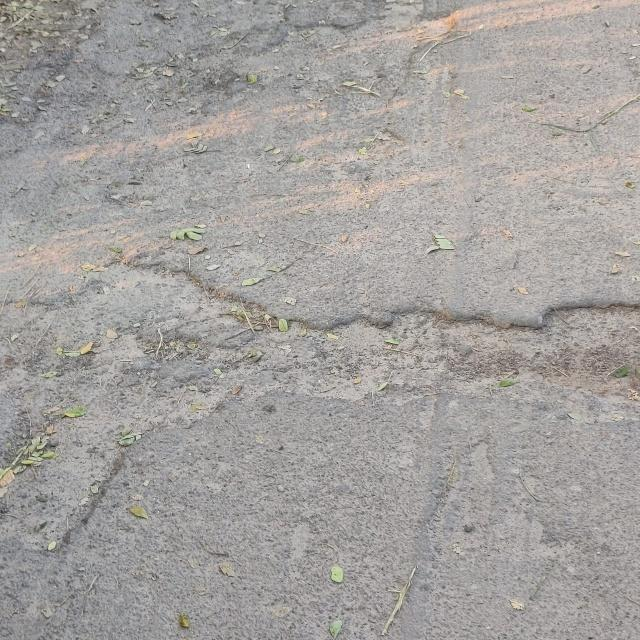Surface Erosion: (18, 20, 640, 617)
